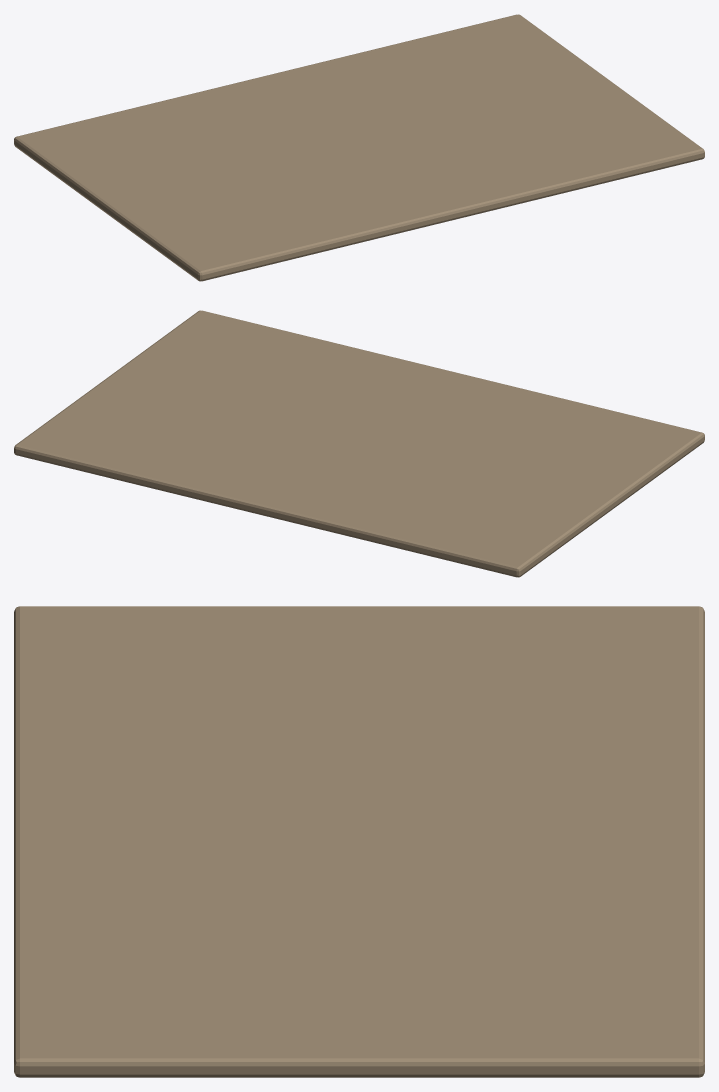
Rendered from doormat.fbx.
3 views of the same model, one above another, from view 1: azimuth 30°, elevation 25°; view 2: azimuth 150°, elevation 25°; view 3: azimuth 270°, elevation 25° (orthographic). The views are drawn at different scales.
Parts seen in each view (by area): view 1: doormat; view 2: doormat; view 3: doormat.
Part boxes in pixels (x1,y1,x2,y2): doormat: (14,14,704,281); doormat: (14,310,704,577); doormat: (14,606,704,1077).
Size of the model in its own units: 0.72 by 0.014 by 0.46.
